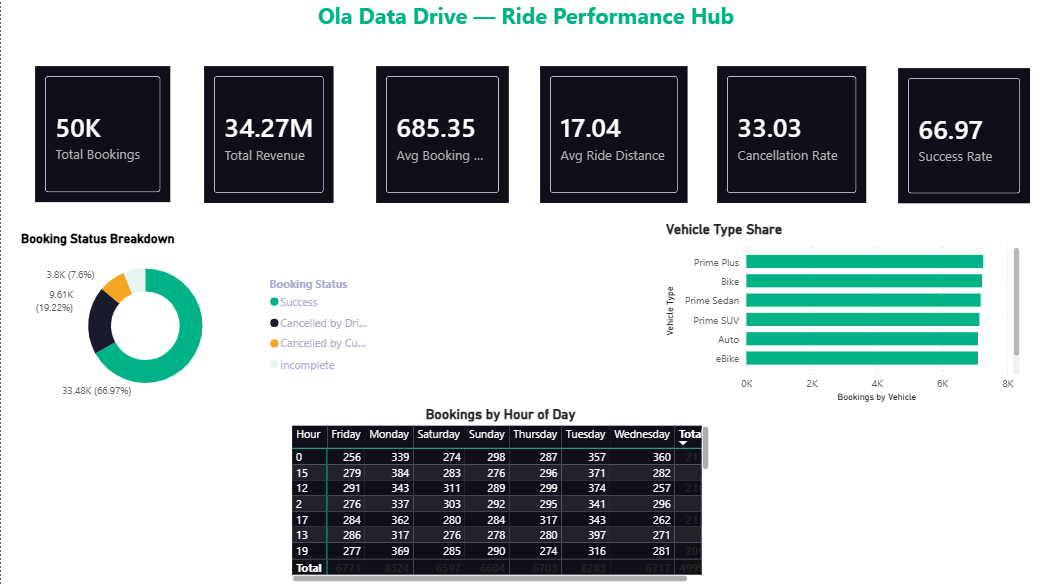

The dashboard page shown, as its layout file describes it:
{"tool":"powerbi","page":{"name":"Overview","canvas":[1280,720],"ordinal":0},"visuals":[{"type":"cardVisual","fields":{"Data":["ola_clean.Total Bookings"]},"box":[36.6,80.8,175.2,176.8],"z":0},{"type":"cardVisual","fields":{"Data":["ola_clean.Success Rate %"]},"box":[1089.5,82.9,171.2,175.2],"z":1000},{"type":"cardVisual","fields":{"Data":["ola_clean.Total Revenue"]},"box":[243.2,80.2,168.5,178],"z":2000},{"type":"cardVisual","fields":{"Data":["ola_clean.Avg Ride Distance"]},"box":[653.4,80.2,190.2,178],"z":3000},{"type":"cardVisual","fields":{"Data":["ola_clean.Cancellation Rate %"]},"box":[869.4,80.2,192.9,178],"z":4000},{"type":"cardVisual","fields":{"Data":["ola_clean.Avg Booking Value"]},"box":[452.4,80.2,172.5,178],"z":5000},{"type":"donutChart","title":"Booking Status Breakdown","fields":{"Category":["ola_clean.Booking Status"],"Y":["CountNonNull(ola_clean.Booking ID)"]},"box":[19,286.6,444.2,213.3],"z":6000},{"type":"clusteredBarChart","title":"Vehicle Type Share","fields":{"Category":["ola_clean.Vehicle Type"],"Y":["ola_clean.Bookings by Vehicle"]},"box":[806.9,274.4,441.5,225.5],"z":7000},{"type":"pivotTable","title":"Bookings by Hour of Day","fields":{"Rows":["ola_clean.Hour"],"Columns":["ola_clean.DayName"],"Values":["CountNonNull(ola_clean.Booking ID)"]},"box":[350.5,499.9,518.9,220.1],"z":8000},{"type":"textbox","box":[300.2,0,681.1,67],"z":9000}]}

Visuals, with their boxes in screenshot pixels (x1, y1, x2, y2), scaled from the page's 1280x720 canvas onto the 1048x586 screenshot:
cardVisual - ola_clean.Total Bookings: crop(30, 66, 173, 210)
cardVisual - ola_clean.Success Rate %: crop(892, 67, 1032, 210)
cardVisual - ola_clean.Total Revenue: crop(199, 65, 337, 210)
cardVisual - ola_clean.Avg Ride Distance: crop(535, 65, 691, 210)
cardVisual - ola_clean.Cancellation Rate %: crop(712, 65, 870, 210)
cardVisual - ola_clean.Avg Booking Value: crop(370, 65, 512, 210)
"Booking Status Breakdown" donutChart: crop(16, 233, 379, 407)
"Vehicle Type Share" clusteredBarChart: crop(661, 223, 1022, 407)
"Bookings by Hour of Day" pivotTable: crop(287, 407, 712, 585)
textbox: crop(246, 0, 803, 55)
